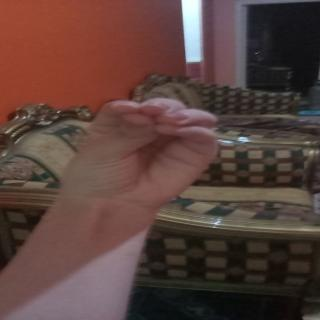HA: (54, 94, 226, 224)
